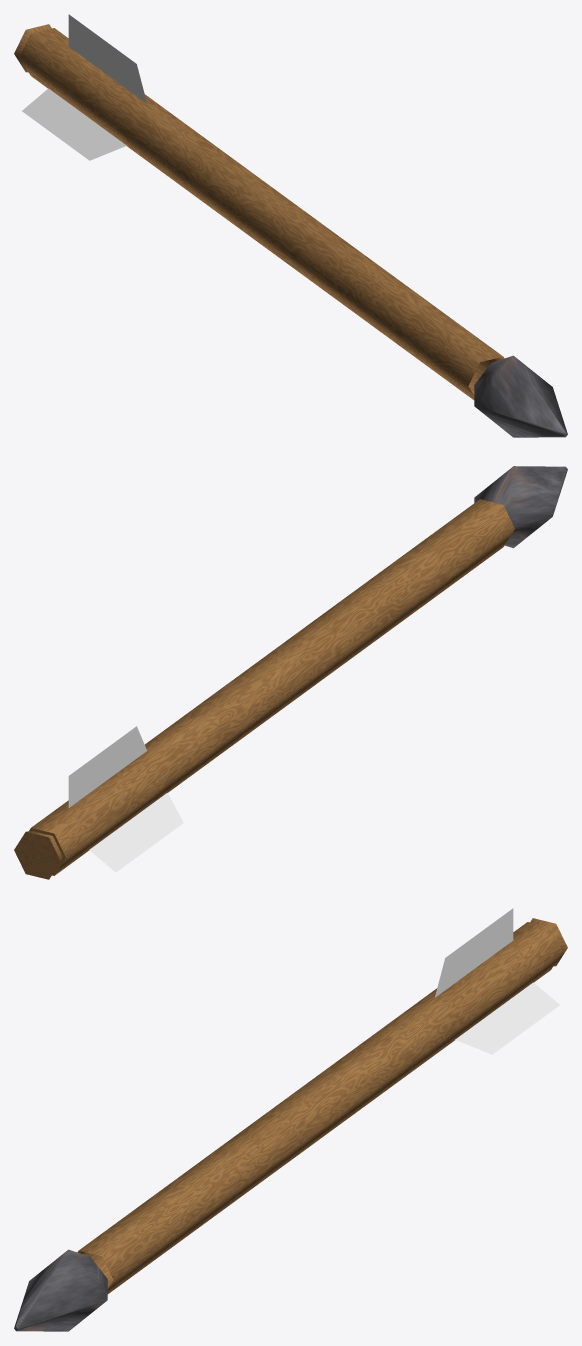
File: Crossbow_Bolt.fbx
3 views of the same model, one above another, from view 1: azimuth 30°, elevation 25°; view 2: azimuth 150°, elevation 25°; view 3: azimuth 330°, elevation 25° (orthographic).
Visible parts, largest first — view 1: Crossbow_Bolt; view 2: Crossbow_Bolt; view 3: Crossbow_Bolt.
Part boxes in pixels (<box>): Crossbow_Bolt: <box>14,14,567,437</box>; Crossbow_Bolt: <box>14,466,567,879</box>; Crossbow_Bolt: <box>14,908,567,1331</box>.
Bounding box in the file's own units: 0.0624 × 0.062 × 0.606.
